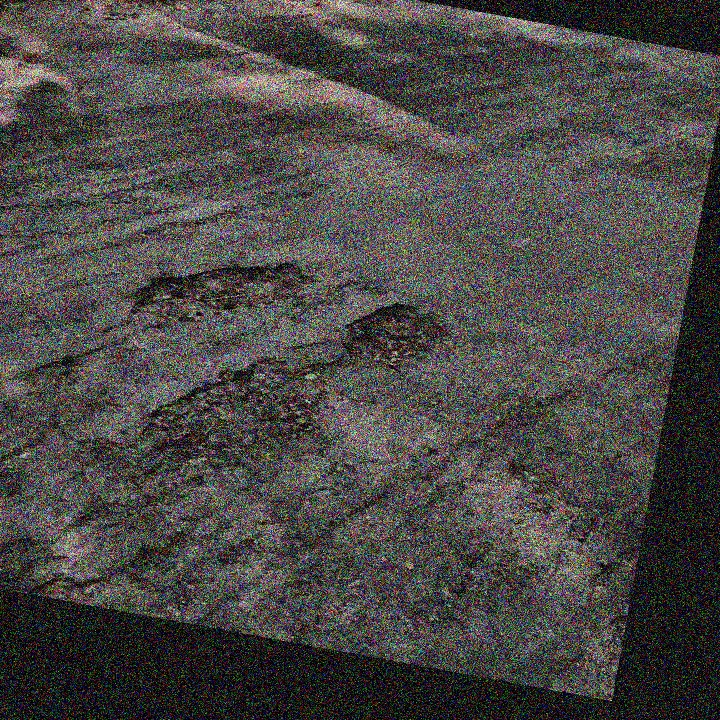pothole: (134, 337, 340, 491), (126, 231, 322, 347), (336, 291, 455, 384)
